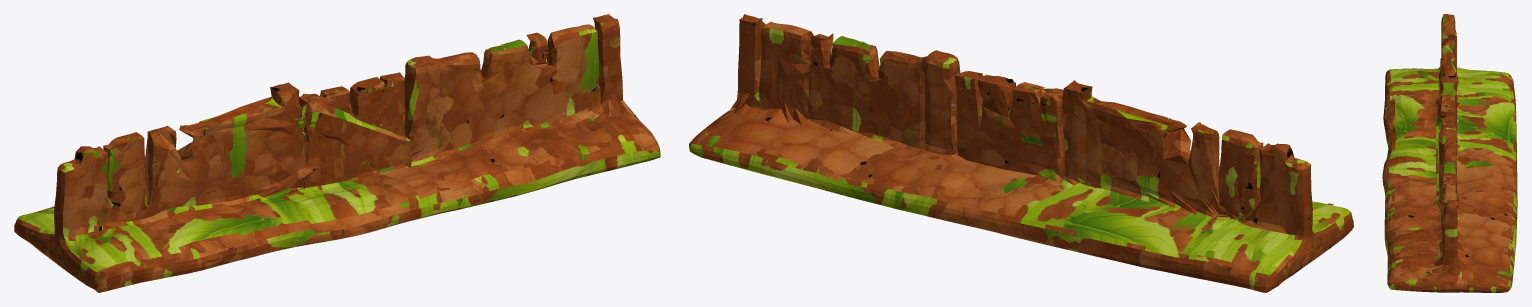
The model's file is fence gate 2.obj.
3 renders of one model, left to right at view 1: azimuth 30°, elevation 25°; view 2: azimuth 150°, elevation 25°; view 3: azimuth 270°, elevation 25°, orthographic. The views are drawn at different scales.
Parts seen in each view (by area): view 1: tripo_node_58e5d372-309d-437e-848e-78287e5831b2; view 2: tripo_node_58e5d372-309d-437e-848e-78287e5831b2; view 3: tripo_node_58e5d372-309d-437e-848e-78287e5831b2.
Boxes of the visible parts, x1=… form: tripo_node_58e5d372-309d-437e-848e-78287e5831b2: x1=14, y1=14, x2=660, y2=292; tripo_node_58e5d372-309d-437e-848e-78287e5831b2: x1=689, y1=14, x2=1353, y2=292; tripo_node_58e5d372-309d-437e-848e-78287e5831b2: x1=1382, y1=14, x2=1517, y2=292.
Bounding box in the file's own units: 0.9994 × 0.2018 × 0.2738.
